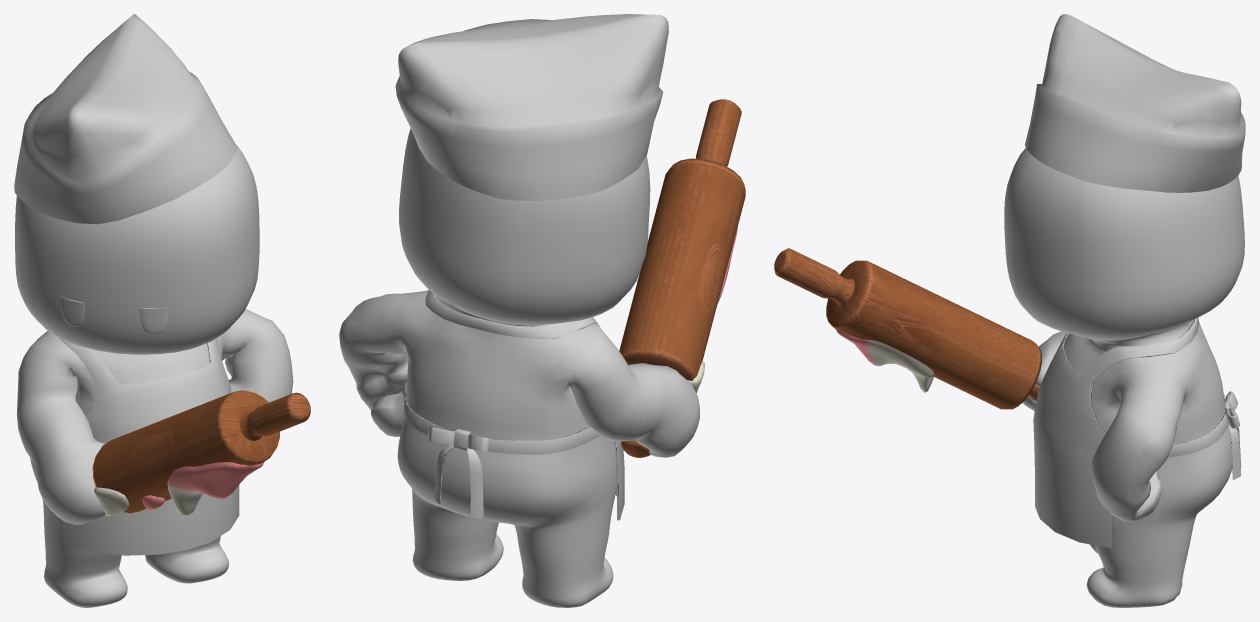
Rendered from SM_Character_pose_03.fbx.
The picture shows the model from 3 angles, left to right: view 1: azimuth 30°, elevation 25°; view 2: azimuth 150°, elevation 25°; view 3: azimuth 270°, elevation 25°; orthographic projection. The views are drawn at different scales.
Parts seen in each view (by area): view 1: Character_GEO, Garrison__Hat_low1, Apron5, Rolling_Pin_low1, Guts_low5, L_Eye_Bored_GEO, R_Eye_Bored_GEO; view 2: Character_GEO, Garrison__Hat_low1, Rolling_Pin_low1, Apron5; view 3: Character_GEO, Garrison__Hat_low1, Rolling_Pin_low1, Apron5, Guts_low5.
Boxes of the visible parts, x1,y1,x2,y2 form: Character_GEO: (15, 144, 293, 607); Garrison__Hat_low1: (14, 14, 236, 224); Apron5: (59, 338, 239, 555); Rolling_Pin_low1: (92, 390, 310, 513); Guts_low5: (94, 462, 263, 515); L_Eye_Bored_GEO: (139, 307, 168, 334); R_Eye_Bored_GEO: (60, 296, 84, 326); Character_GEO: (339, 128, 699, 607); Garrison__Hat_low1: (395, 14, 668, 200); Rolling_Pin_low1: (619, 99, 745, 457); Apron5: (403, 290, 624, 520); Character_GEO: (1004, 148, 1244, 607); Garrison__Hat_low1: (1025, 14, 1245, 192); Rolling_Pin_low1: (774, 248, 1041, 409); Apron5: (1033, 318, 1241, 548); Guts_low5: (836, 329, 934, 392).
Size of the model in its own units: 3.66 by 6.49 by 5.4.
